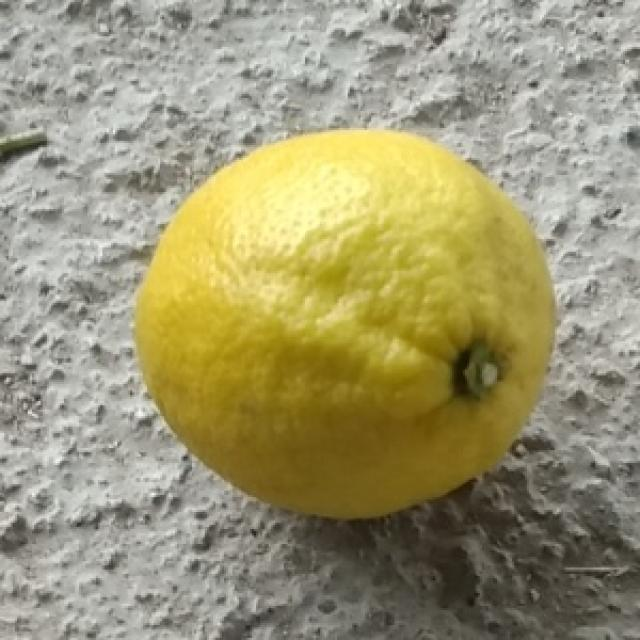Ripe: (135, 121, 564, 528)
